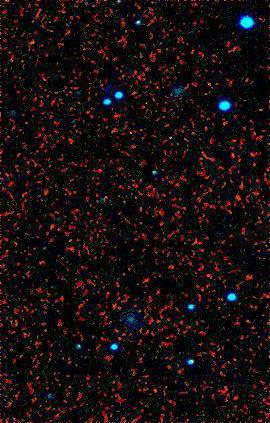star: (120, 5, 150, 35)
